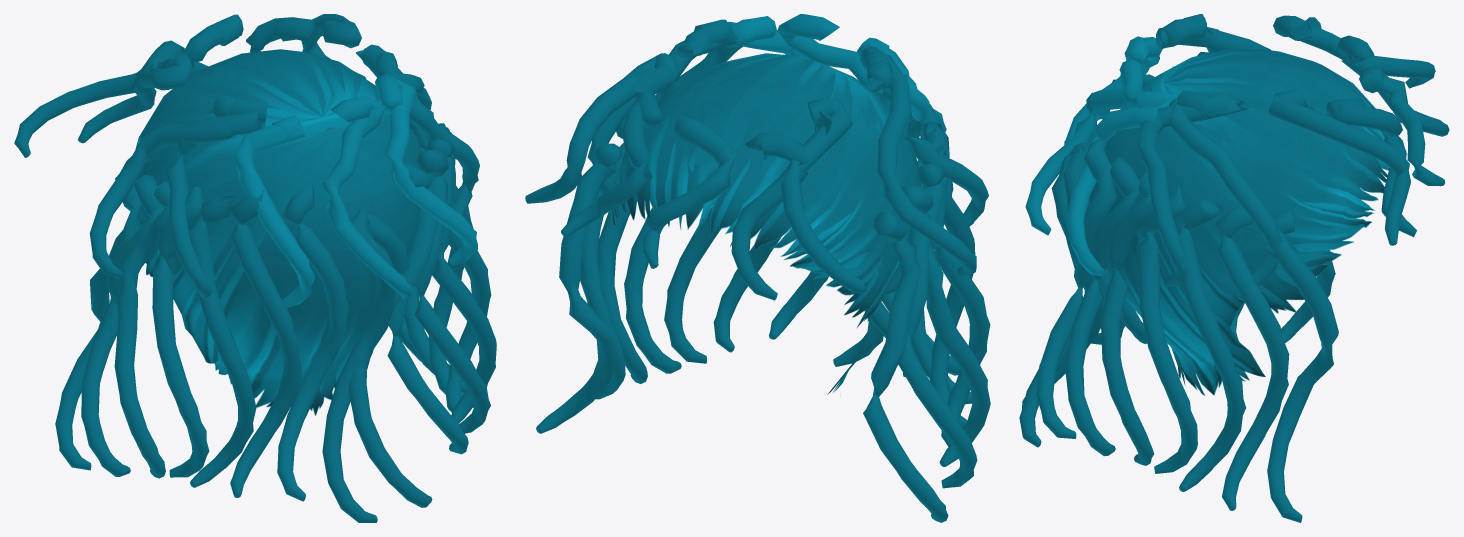
File: hair.glb
The picture shows the model from 3 angles, left to right: view 1: azimuth 30°, elevation 25°; view 2: azimuth 150°, elevation 25°; view 3: azimuth 270°, elevation 25°; orthographic projection. The views are drawn at different scales.
Visible parts, largest first — view 1: male-medium-waves-v1; view 2: male-medium-waves-v1; view 3: male-medium-waves-v1.
Boxes of the visible parts, x1=… form: male-medium-waves-v1: x1=14, y1=14, x2=496, y2=522; male-medium-waves-v1: x1=525, y1=14, x2=990, y2=522; male-medium-waves-v1: x1=1019, y1=14, x2=1449, y2=522.
Size of the model in its own units: 0.3063 by 0.2865 by 0.2963.
1 material, 1 textured.
